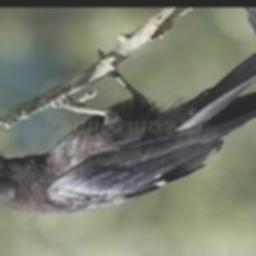Crow: (0, 38, 256, 217)
